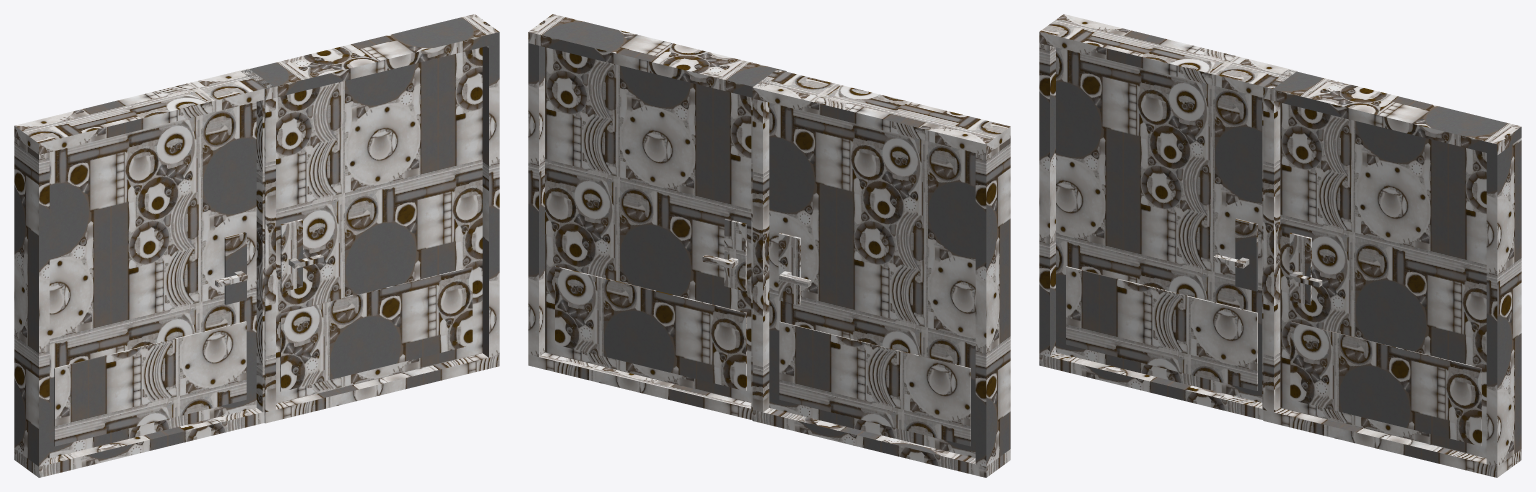
3 renders of one model, left to right at view 1: azimuth 30°, elevation 25°; view 2: azimuth 150°, elevation 25°; view 3: azimuth 330°, elevation 25°, orthographic.
Parts seen in each view (by area): view 1: Door 2; view 2: Door 2; view 3: Door 2.
Part boxes in pixels (left/top/right/bottom): Door 2: left=14, top=14, right=499, bottom=477; Door 2: left=528, top=14, right=1010, bottom=477; Door 2: left=1039, top=14, right=1521, bottom=477.
Size of the model in its own units: 1991 by 1383 by 212.
